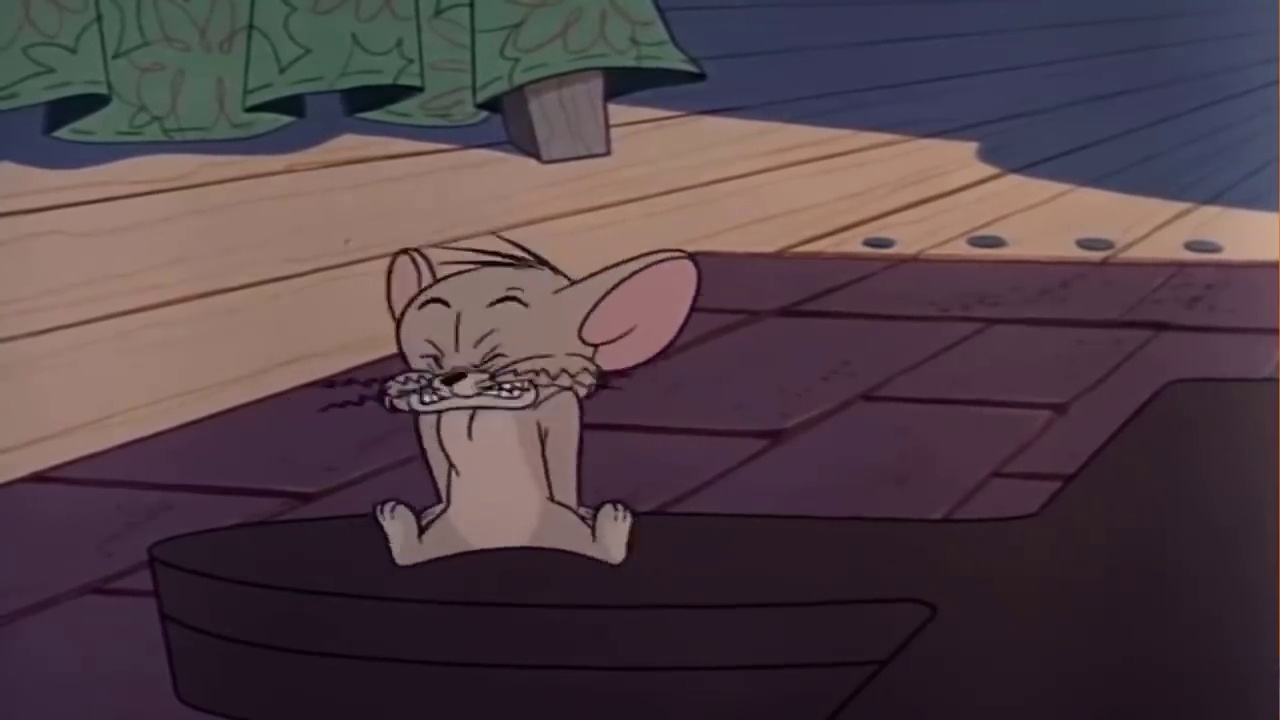face: (399, 289, 547, 418)
